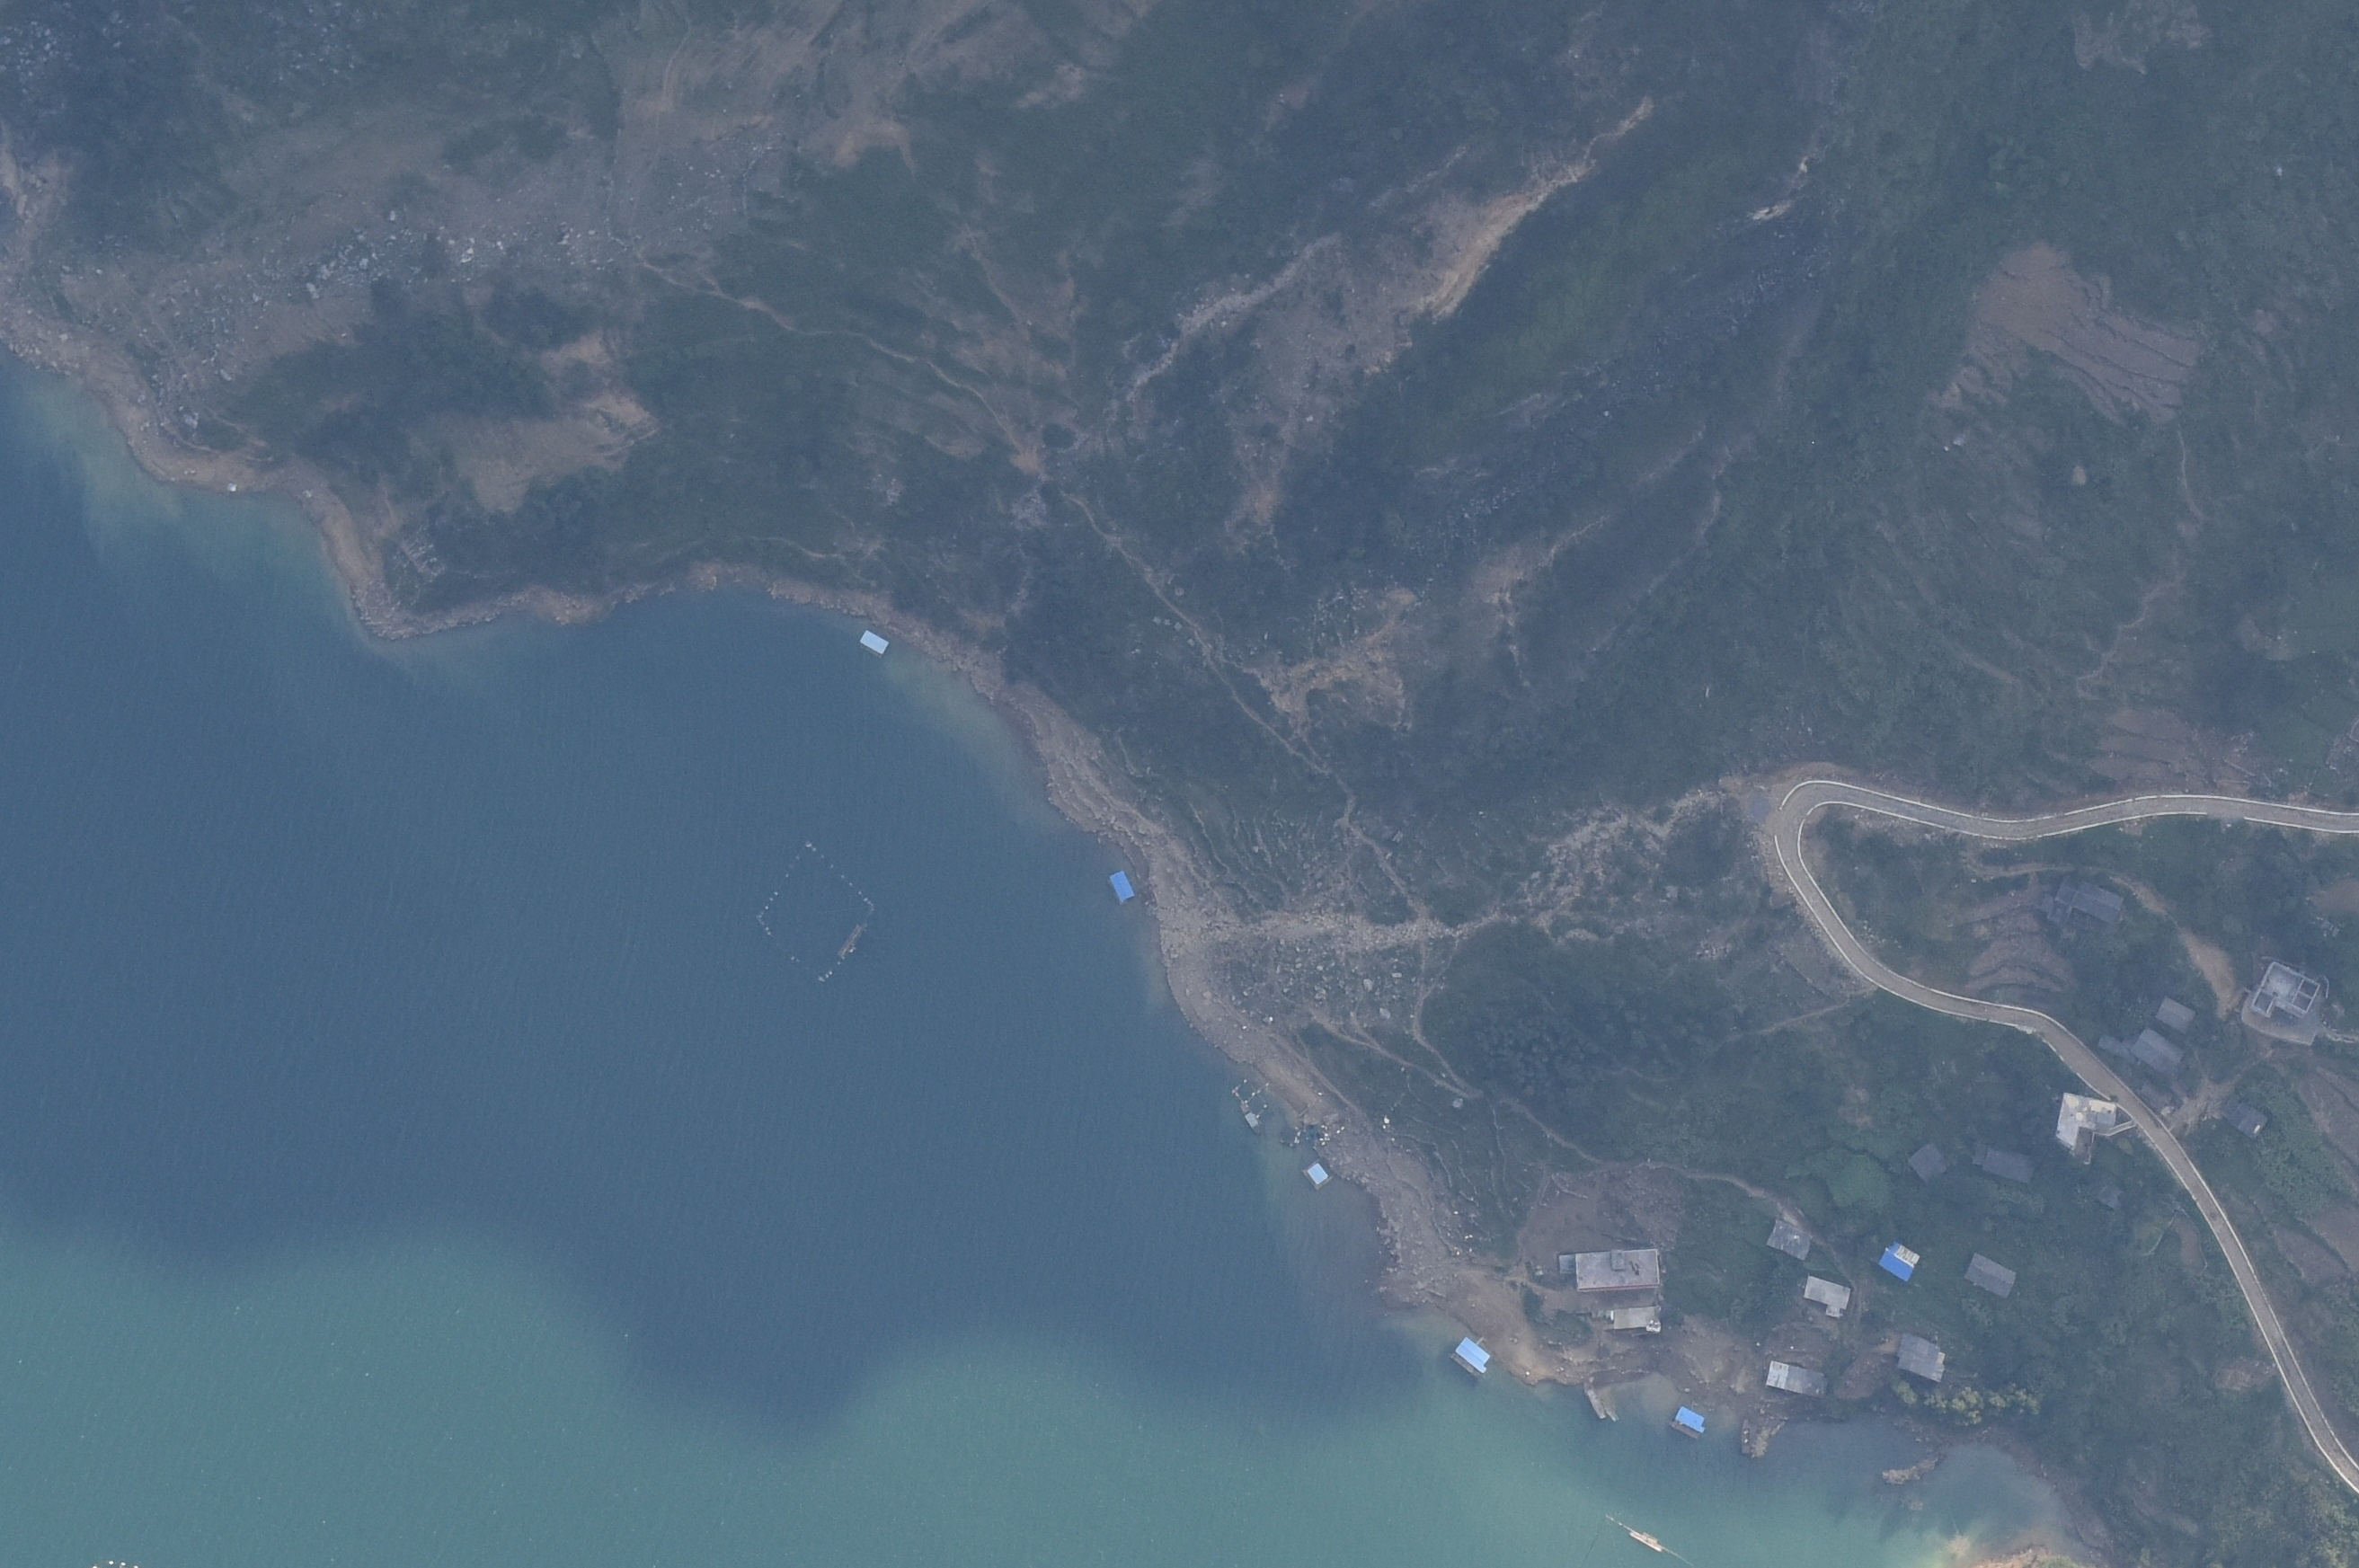building: (2253, 961, 2319, 1024), (1557, 1251, 1661, 1289), (2044, 880, 2124, 926), (2053, 1094, 2115, 1151), (1764, 1360, 1832, 1400), (1970, 1142, 2036, 1183), (1895, 1329, 1946, 1381), (1964, 1253, 2017, 1298), (2130, 1031, 2183, 1073), (1766, 1219, 1814, 1261), (1802, 1276, 1850, 1316), (2223, 1096, 2268, 1137), (1909, 1141, 1948, 1183), (1608, 1306, 1661, 1334), (2155, 997, 2196, 1029)
cultivation-mesh-cage: (754, 841, 876, 985), (1232, 1078, 1267, 1115)
landslide: (47, 127, 782, 432), (1166, 909, 1441, 1060)
prefabricated-house: (1879, 1238, 1920, 1280), (1451, 1337, 1491, 1376), (1671, 1407, 1707, 1440), (1107, 868, 1135, 901), (857, 629, 891, 654), (1302, 1161, 1333, 1188)
ship: (1583, 1378, 1608, 1420), (1239, 1100, 1261, 1133)
